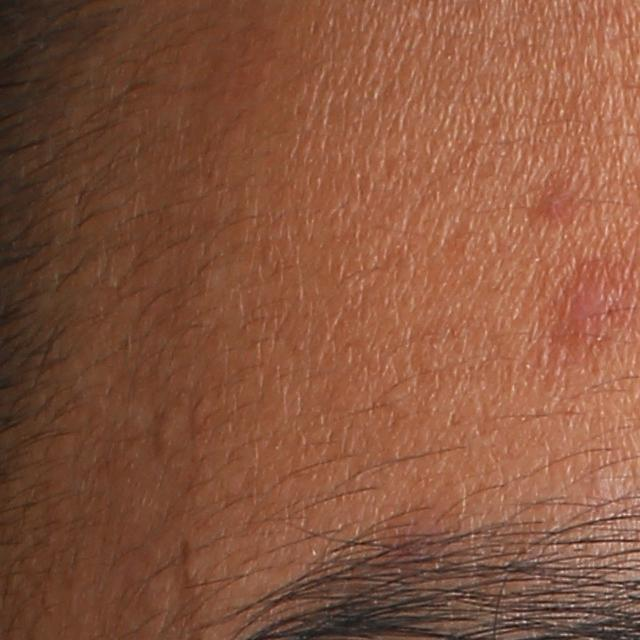comedo: (145, 408, 182, 454)
